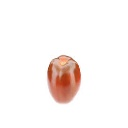tomato: (47, 56, 82, 104)
